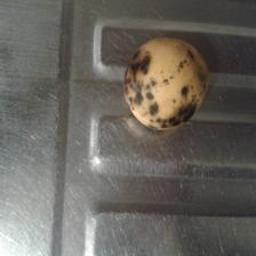Mango Rotten: (114, 27, 208, 151)
